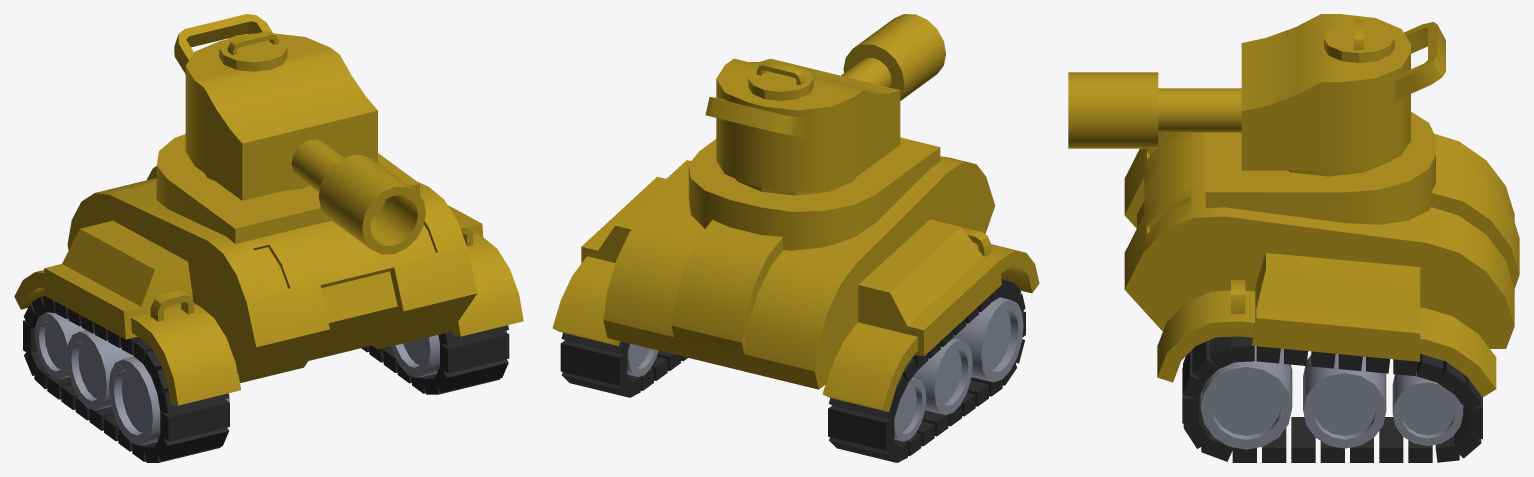
File: SM_Tank.fbx
The picture shows the model from 3 angles, left to right: view 1: azimuth 30°, elevation 25°; view 2: azimuth 150°, elevation 25°; view 3: azimuth 270°, elevation 25°; orthographic projection. The views are drawn at different scales.
Parts seen in each view (by area): view 1: SM_Tank; view 2: SM_Tank; view 3: SM_Tank.
Boxes of the visible parts, bbox=[...] form: SM_Tank: bbox=[14, 14, 523, 462]; SM_Tank: bbox=[552, 14, 1039, 462]; SM_Tank: bbox=[1068, 14, 1519, 462].
Size of the model in its own units: 2.37 by 2.14 by 2.5.
